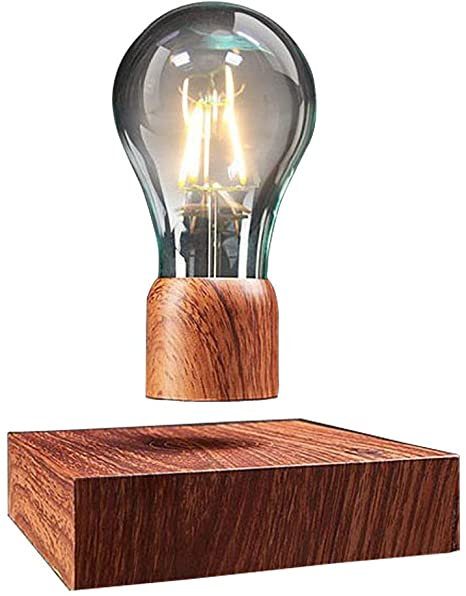bulb: (84, 2, 355, 345)
